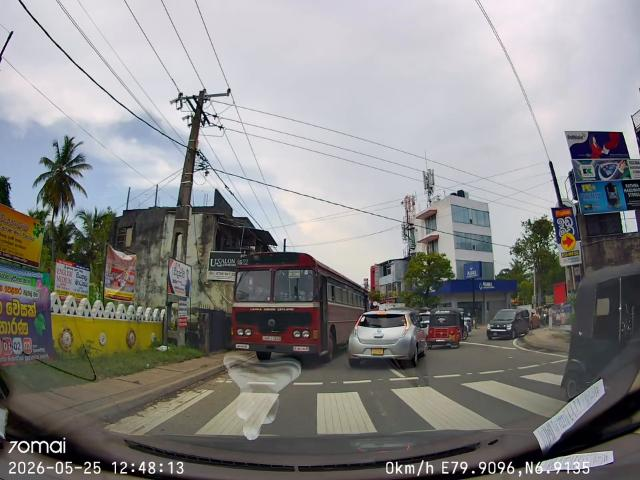illegal overtaking: (231, 255, 336, 375)
